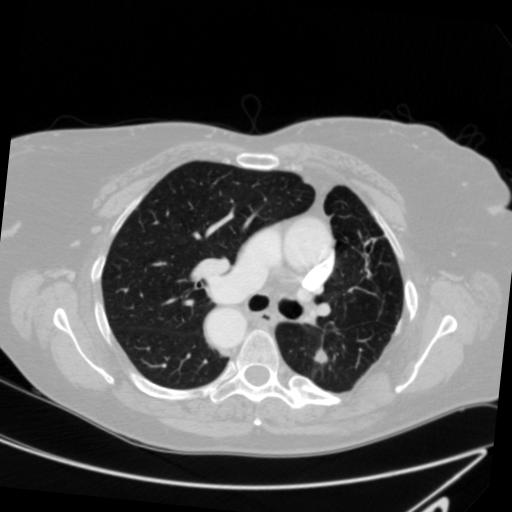nodule: (313, 348, 334, 369)
